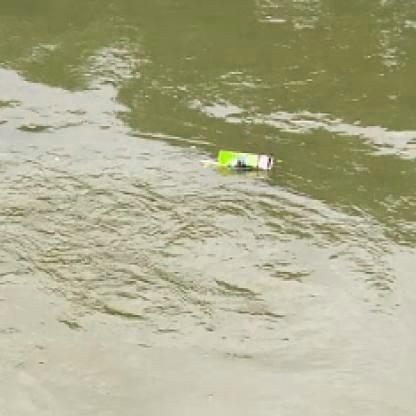Metal: (214, 147, 275, 174)
